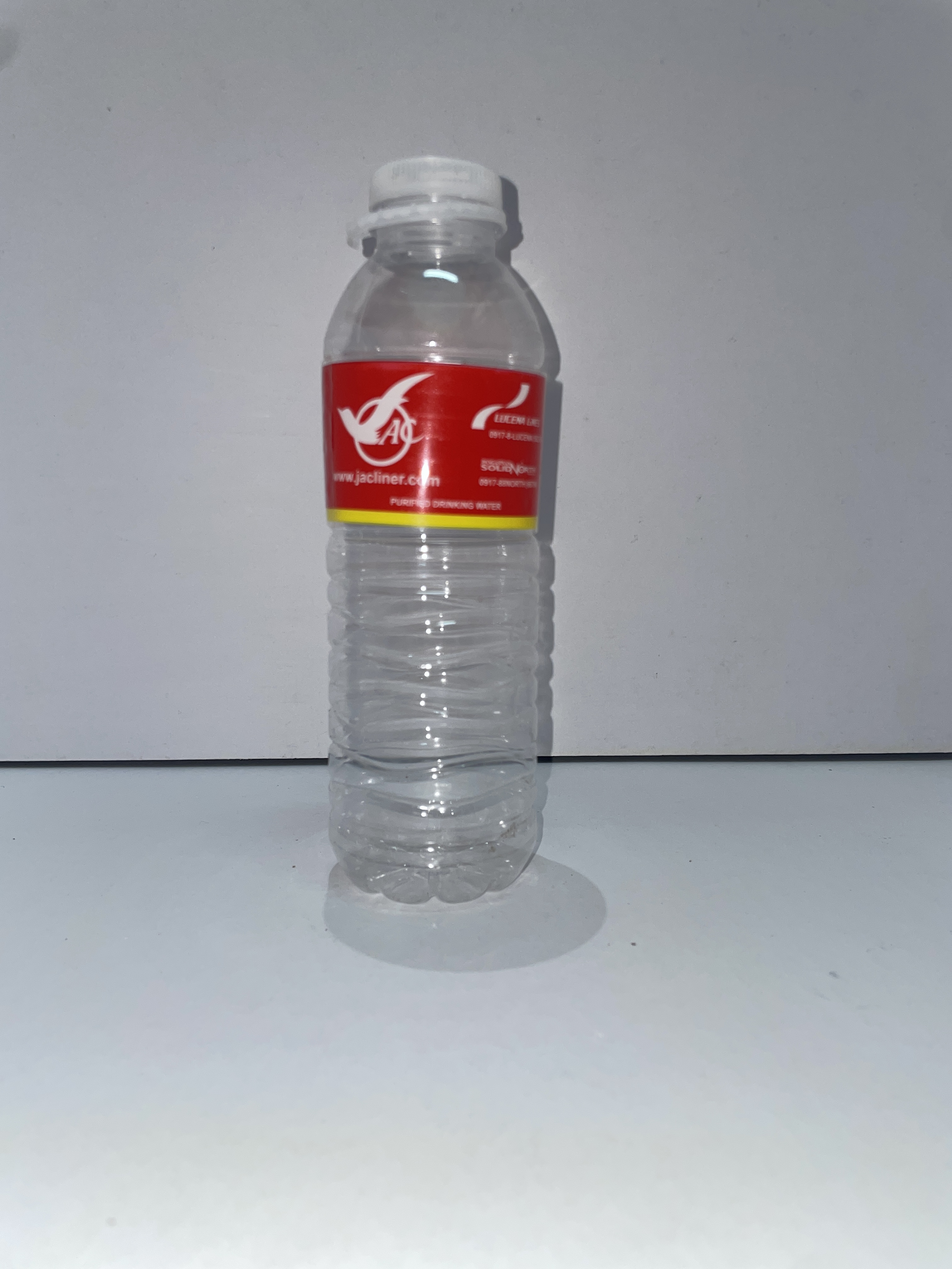Nature spring victory liner 330ml: (323, 156, 553, 903)
